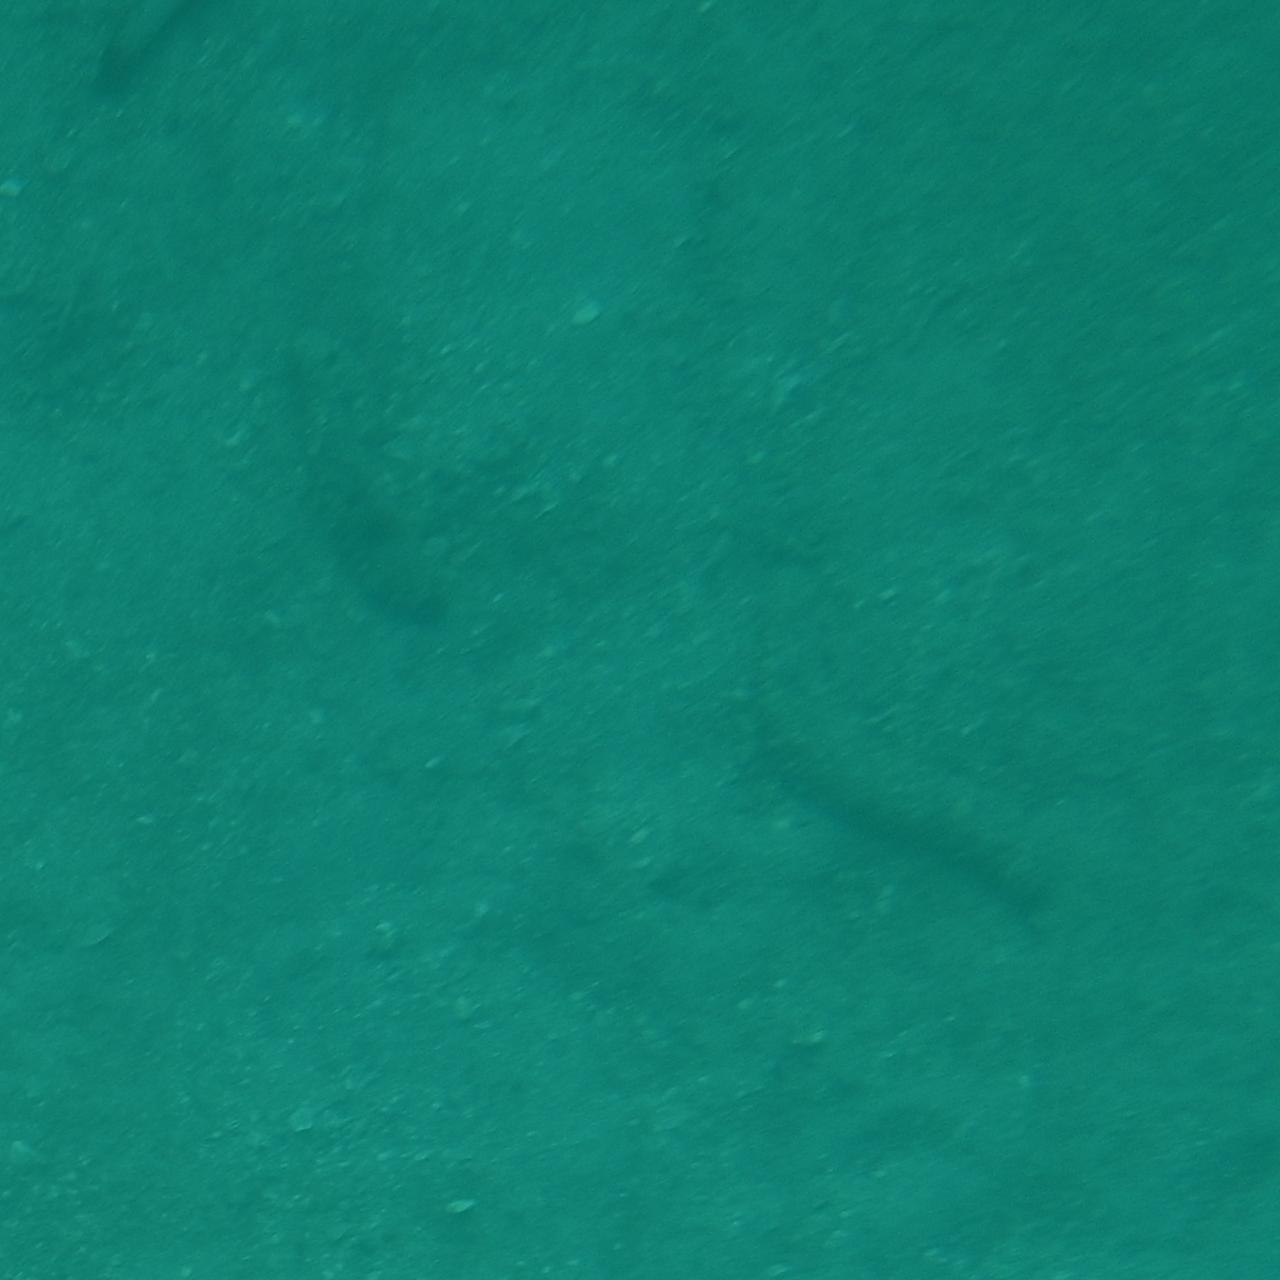Holothuria tubulosa: (747, 678, 1087, 910), (256, 345, 472, 627)
